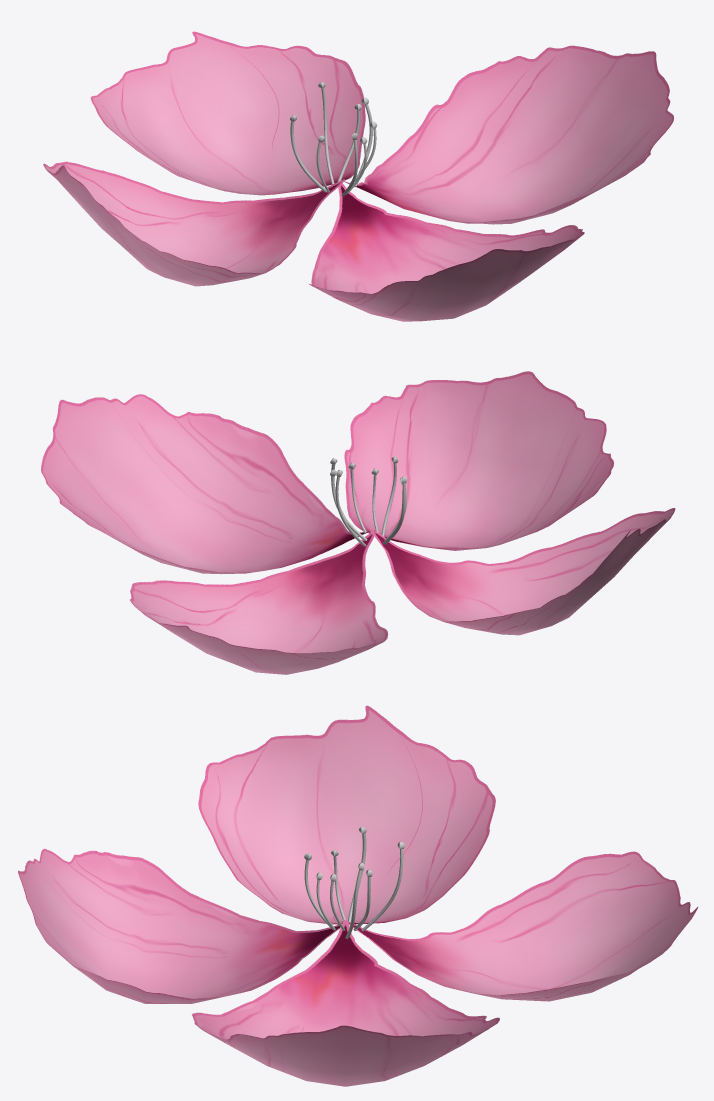
File: Sakura.obj
The picture shows the model from 3 angles, top to bottom: view 1: azimuth 30°, elevation 25°; view 2: azimuth 150°, elevation 25°; view 3: azimuth 270°, elevation 25°; orthographic projection. The views are drawn at different scales.
Parts seen in each view (by area): view 1: SakuraBlossom_Sakura2.003, seed_BezierCurve.001; view 2: SakuraBlossom_Sakura2.003, seed_BezierCurve.001; view 3: SakuraBlossom_Sakura2.003, seed_BezierCurve.001.
Part boxes in pixels (x1,y1,x2,y2): SakuraBlossom_Sakura2.003: [43, 31, 673, 321]; seed_BezierCurve.001: [290, 82, 377, 196]; SakuraBlossom_Sakura2.003: [41, 371, 675, 674]; seed_BezierCurve.001: [330, 456, 407, 546]; SakuraBlossom_Sakura2.003: [18, 705, 698, 1086]; seed_BezierCurve.001: [304, 826, 404, 938].
Size of the model in its own units: 1.59 by 0.3795 by 1.52.
4 materials, 2 textured.
